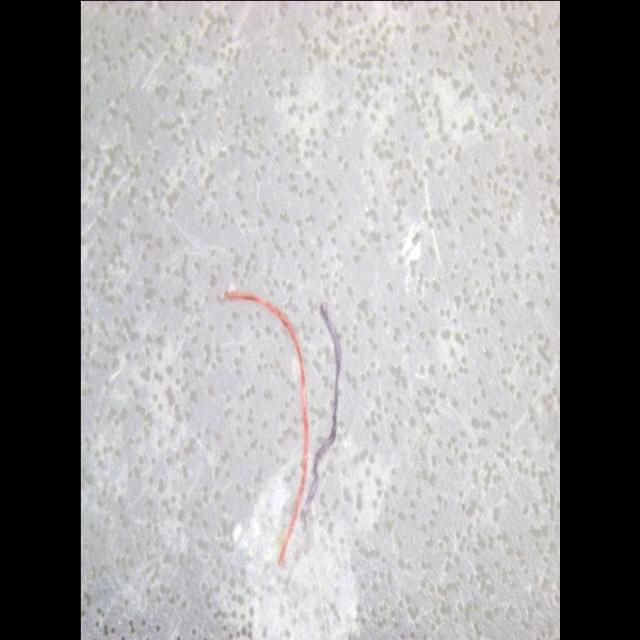Fibre: (222, 287, 342, 567)
